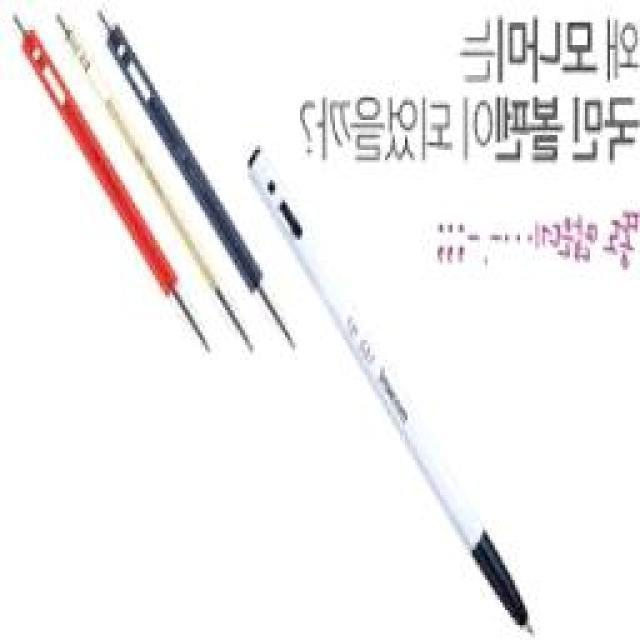pen: (242, 140, 537, 638)
